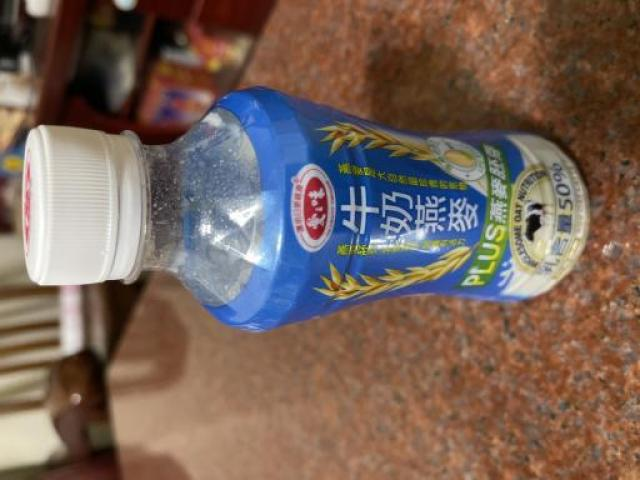bottle: (24, 88, 589, 329)
